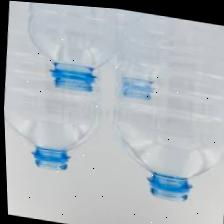plastic: (98, 8, 224, 210), (0, 5, 109, 189), (19, 1, 114, 97)
